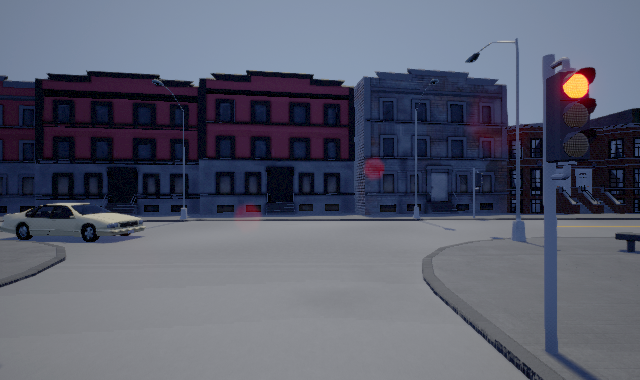traffic_light: (546, 57, 597, 180)
vehicle: (1, 203, 146, 242)
